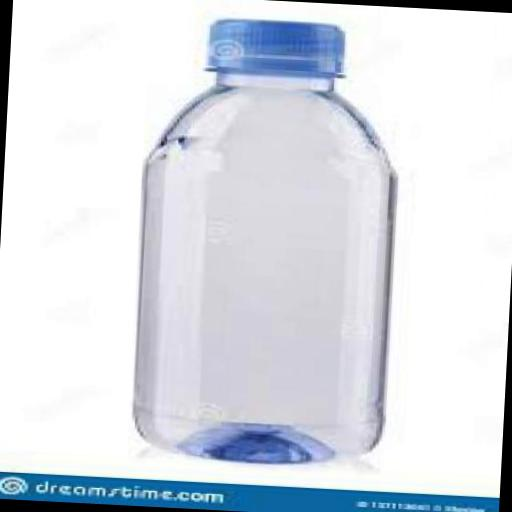plastic: (128, 12, 402, 468), (200, 15, 343, 80)
